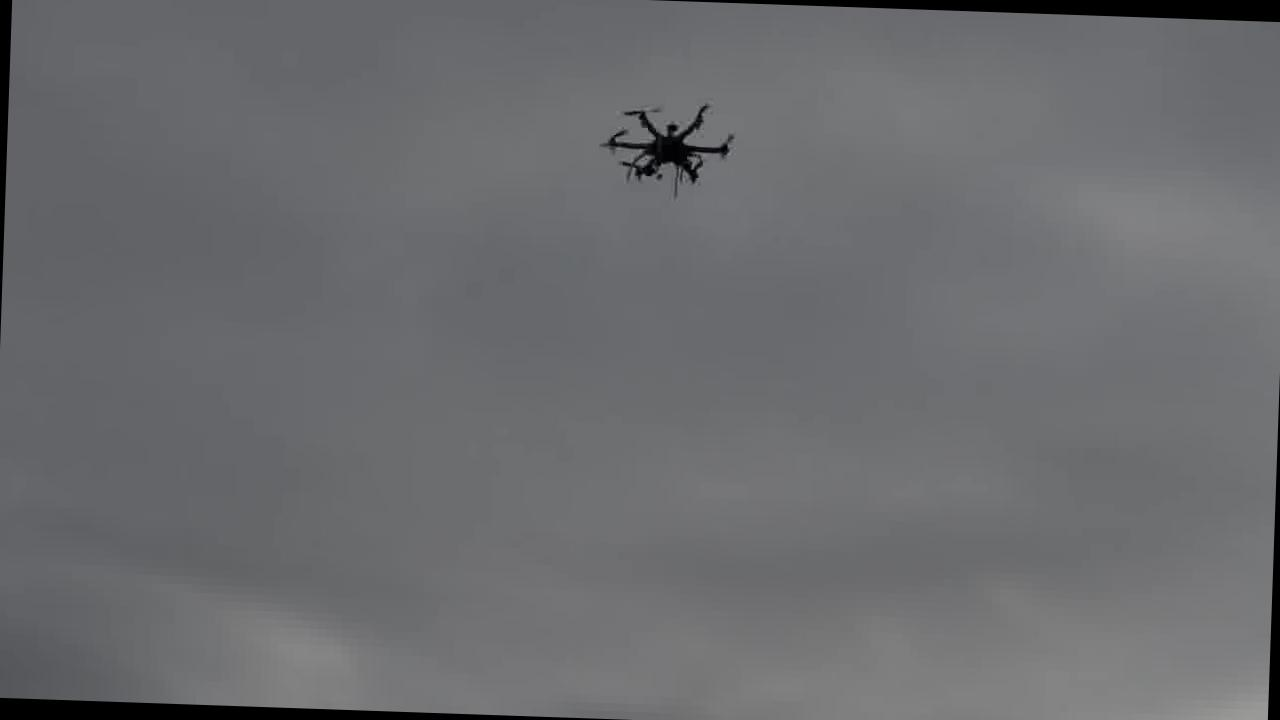drone: (598, 97, 739, 194)
